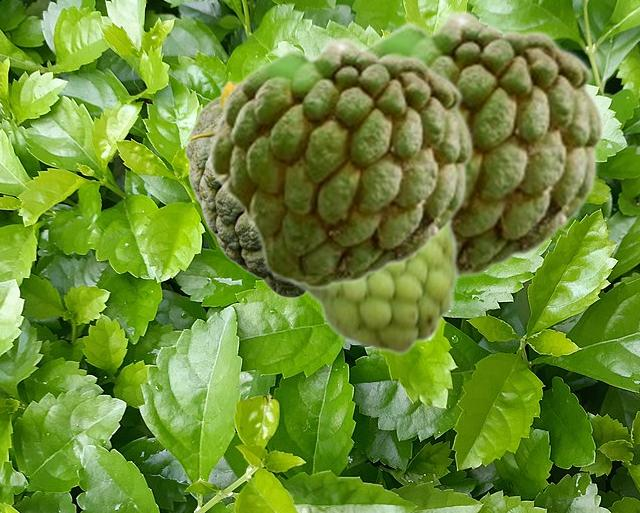atis: (205, 35, 473, 289), (363, 8, 604, 282), (184, 80, 304, 297), (289, 220, 459, 356)
